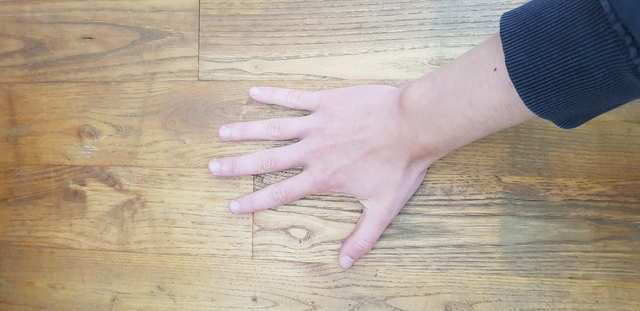Paper: (171, 69, 443, 279)
